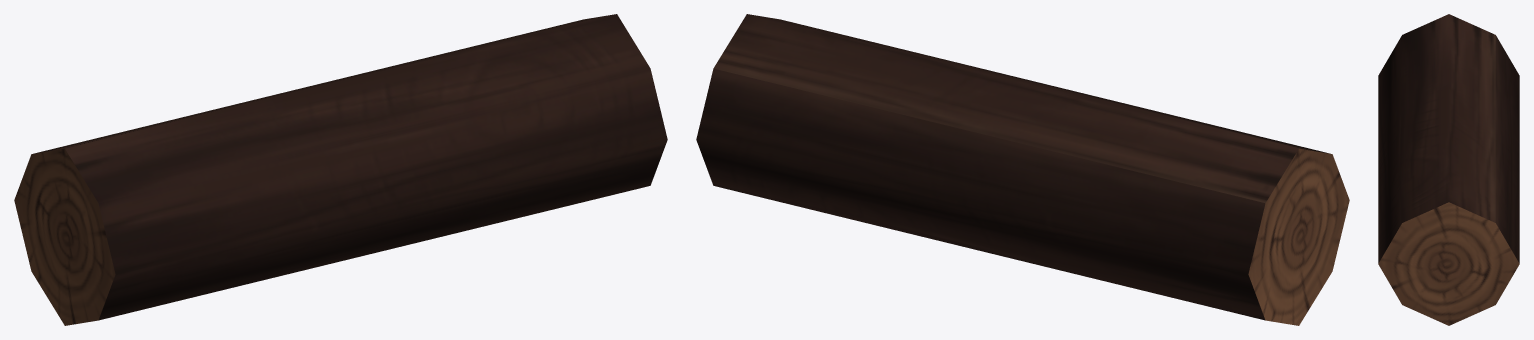
The model's file is Lumber.FBX.
3 renders of one model, left to right at view 1: azimuth 30°, elevation 25°; view 2: azimuth 150°, elevation 25°; view 3: azimuth 270°, elevation 25°, orthographic. The views are drawn at different scales.
Visible parts, largest first — view 1: Box001; view 2: Box001; view 3: Box001.
Boxes of the visible parts, x1,y1,x2,y2 form: Box001: [14, 14, 667, 325]; Box001: [696, 14, 1349, 325]; Box001: [1378, 14, 1519, 325].
Bounding box in the file's own units: 15.39 × 4.72 × 4.89.
